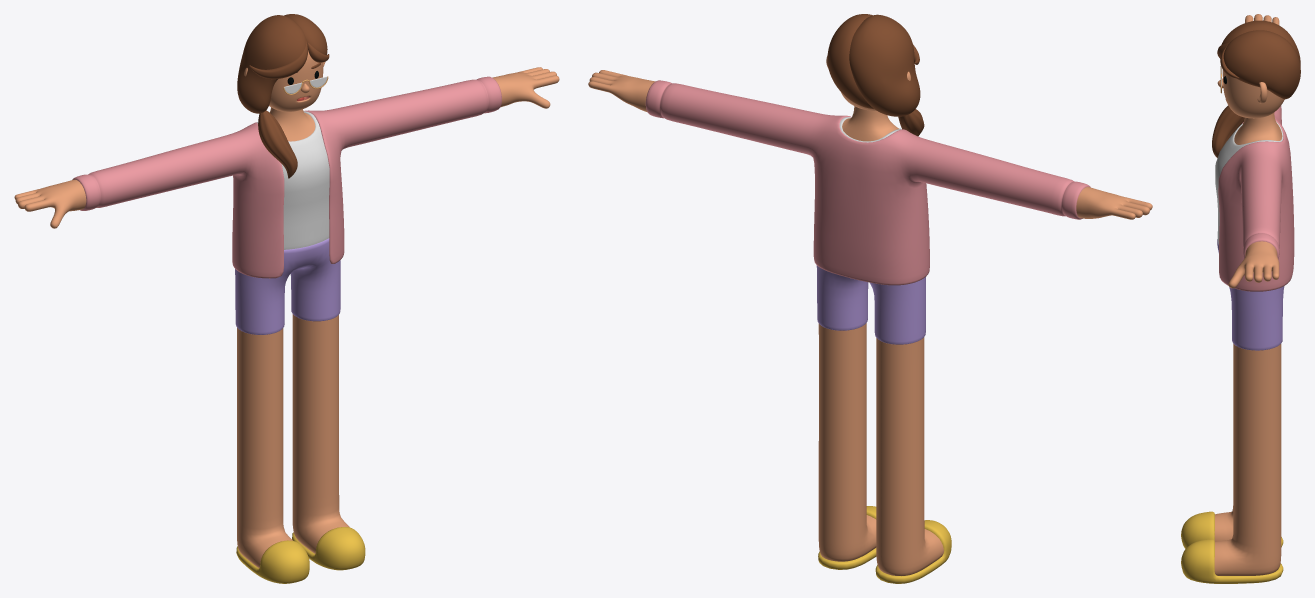
File: GIRL 10.fbx
3 renders of one model, left to right at view 1: azimuth 30°, elevation 25°; view 2: azimuth 150°, elevation 25°; view 3: azimuth 270°, elevation 25°, orthographic. The views are drawn at different scales.
Parts seen in each view (by area): view 1: GIRL_BODY (NO SKIRT).007, GIRL 10_JACKET, GIRL 10_PANTS, GIRL 10_SHIRT, GIRL 10_HAIR.001, GIRL 10_HAIR, GIRL_10_SHOES.R, GIRL_10_SHOES.L; view 2: GIRL 10_JACKET, GIRL_BODY (NO SKIRT).007, GIRL 10_HAIR.001, GIRL 10_PANTS, GIRL_10_SHOES.R; view 3: GIRL_BODY (NO SKIRT).007, GIRL 10_JACKET, GIRL 10_HAIR.001, GIRL 10_PANTS, GIRL_10_SHOES.L, GIRL 10_HAIR, GIRL_10_SHOES.R, GIRL 10_SHIRT.
Part boxes in pixels (bbox=[...]): GIRL_BODY (NO SKIRT).007: bbox=[14, 50, 559, 568]; GIRL 10_JACKET: bbox=[72, 76, 501, 278]; GIRL 10_PANTS: bbox=[235, 238, 340, 334]; GIRL 10_SHIRT: bbox=[257, 111, 329, 249]; GIRL 10_HAIR.001: bbox=[237, 14, 327, 113]; GIRL 10_HAIR: bbox=[249, 40, 329, 178]; GIRL_10_SHOES.R: bbox=[236, 540, 309, 583]; GIRL_10_SHOES.L: bbox=[292, 527, 365, 570]; GIRL 10_JACKET: bbox=[645, 80, 1090, 285]; GIRL_BODY (NO SKIRT).007: bbox=[588, 55, 1152, 575]; GIRL 10_HAIR.001: bbox=[827, 14, 920, 116]; GIRL 10_PANTS: bbox=[816, 265, 925, 344]; GIRL_10_SHOES.R: bbox=[875, 520, 951, 583]; GIRL_BODY (NO SKIRT).007: bbox=[1214, 14, 1284, 575]; GIRL 10_JACKET: bbox=[1218, 105, 1294, 291]; GIRL 10_HAIR.001: bbox=[1221, 20, 1300, 99]; GIRL 10_PANTS: bbox=[1217, 239, 1284, 350]; GIRL_10_SHOES.L: bbox=[1181, 539, 1283, 583]; GIRL 10_HAIR: bbox=[1212, 42, 1244, 157]; GIRL_10_SHOES.R: bbox=[1181, 511, 1283, 548]; GIRL 10_SHIRT: bbox=[1215, 121, 1283, 244].
Size of the model in its own units: 205 by 193 by 39.19.
13 materials, 9 textured.
